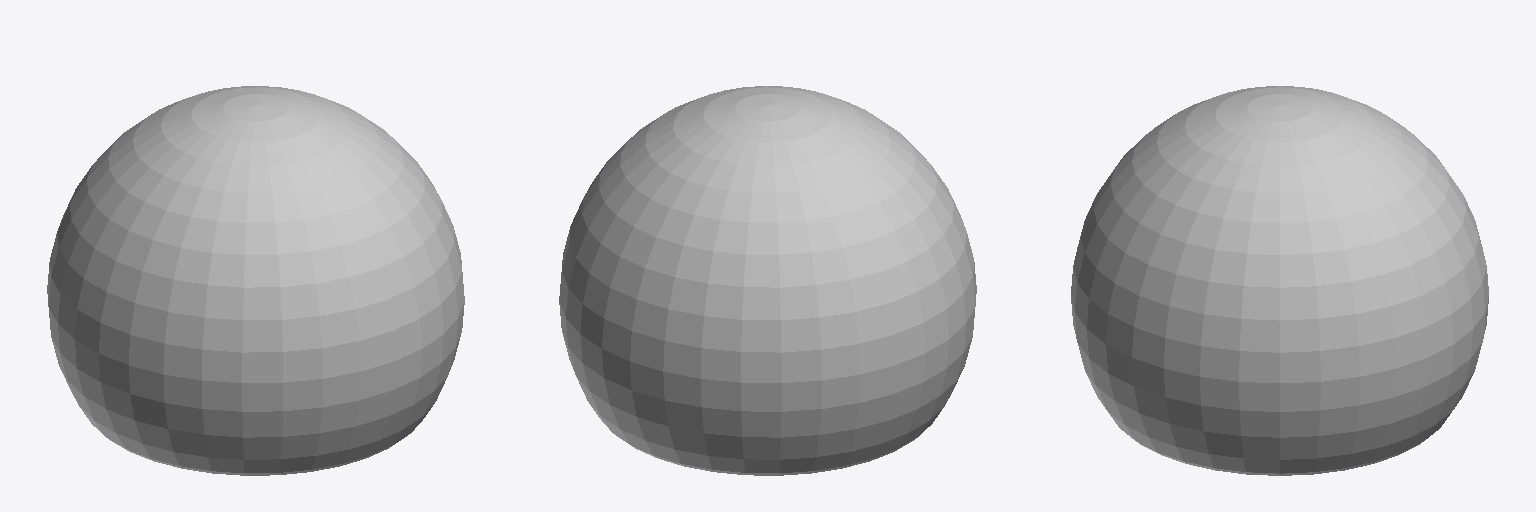
The model's file is BushBallThing.obj.
3 renders of one model, left to right at view 1: azimuth 30°, elevation 25°; view 2: azimuth 150°, elevation 25°; view 3: azimuth 270°, elevation 25°, orthographic.
Parts seen in each view (by area): view 1: pSphere1; view 2: pSphere1; view 3: pSphere1.
Part boxes in pixels (left/top/right/bottom): pSphere1: left=47, top=86, right=464, bottom=475; pSphere1: left=559, top=86, right=976, bottom=475; pSphere1: left=1071, top=86, right=1488, bottom=475.
Bounding box in the file's own units: 200 × 159 × 200.